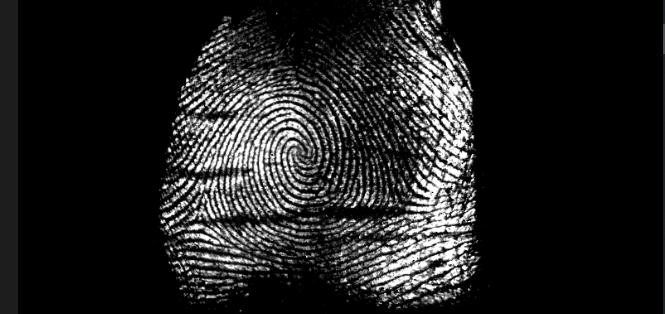deltas: (373, 177, 418, 223), (181, 189, 223, 232)
nucleo: (278, 127, 324, 172)
